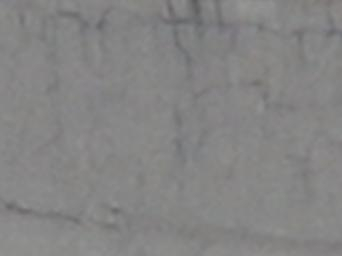fissura: (145, 10, 342, 79), (2, 187, 123, 256)
